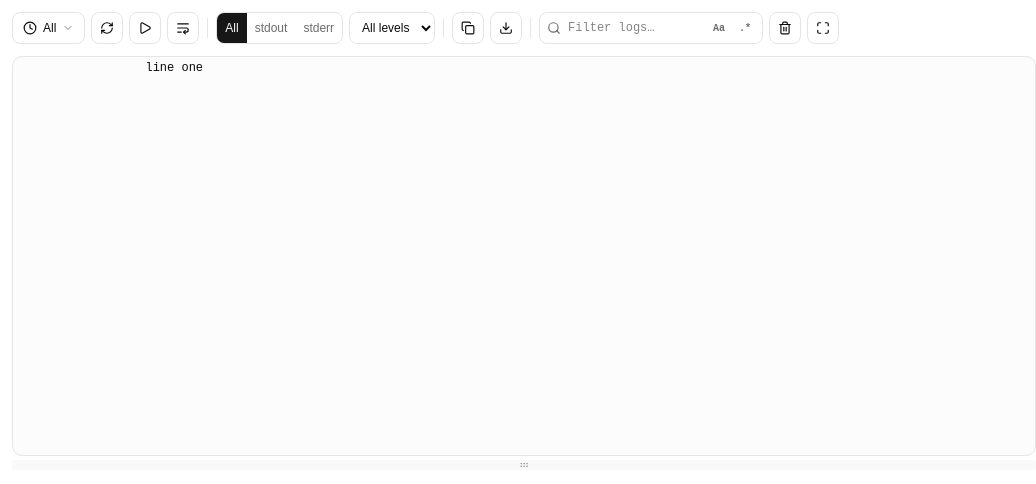
LogViewer › stops streaming when live is toggled off
Expected: the text "line one" is shown, [146,57,1035,79]
Click the button titled "Live tail" at (145,28), box [129,12,161,44]
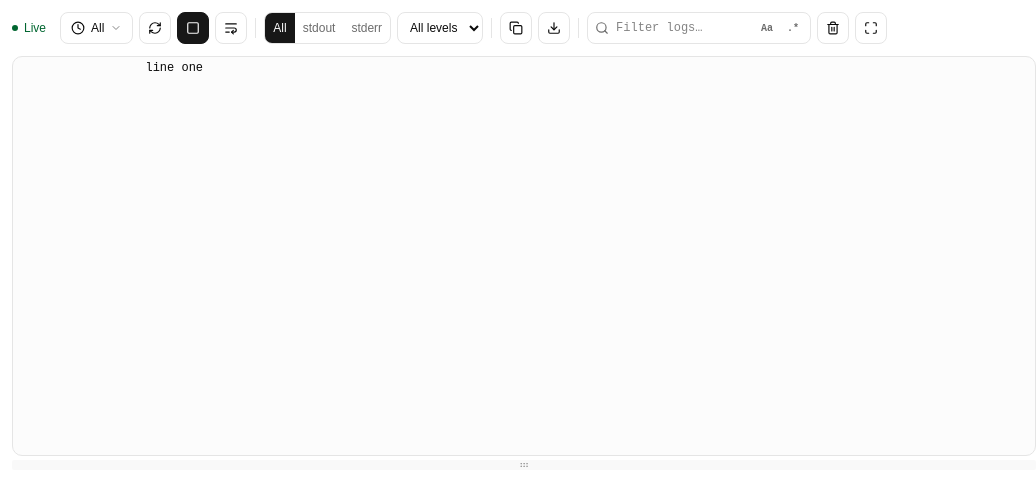
Expected: the text "Live" is shown, [12,20,46,36]
Click the button titled "Stop live" at (193,28), box [177,12,209,44]
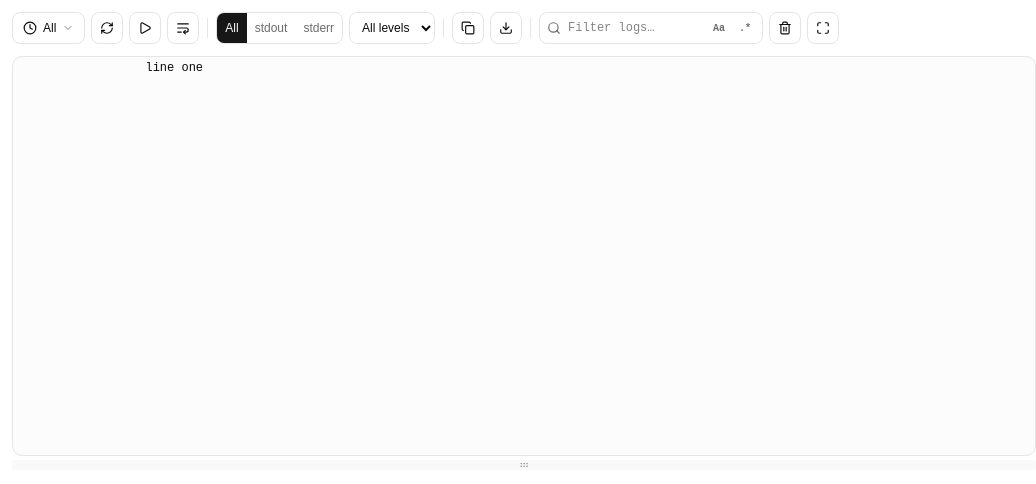
Expected: the text "Live" is gone
